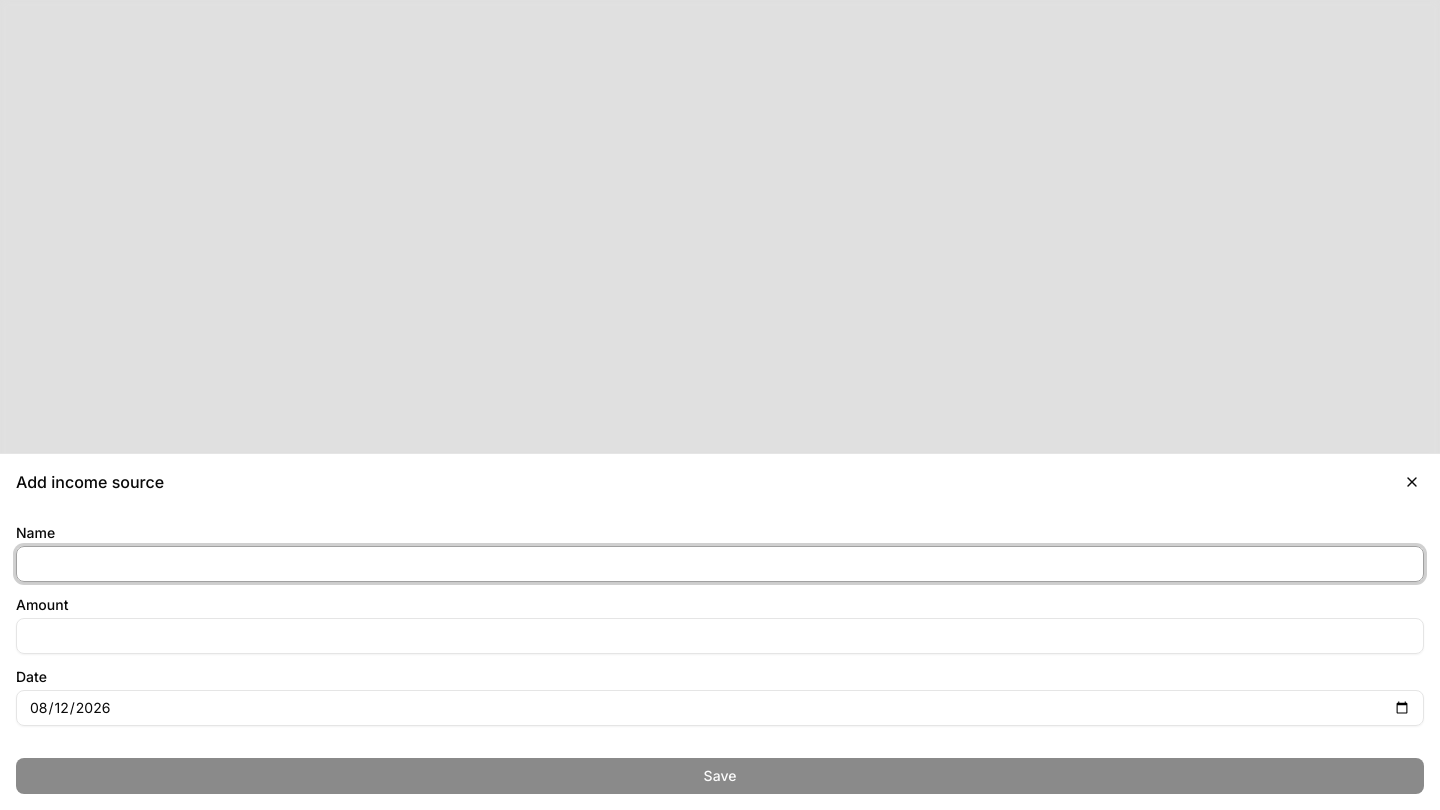
Test: IncomeForm › disables save until name and amount are filled, given the date defaults to today
This screenshot has width=1440, height=810.
Check: the button "Save" is disabled, box x1=16 y1=758 x2=1424 y2=794
Type "Salary" into the field labelled "Name".
click(720, 564); type("Salary")  # box x1=16 y1=546 x2=1424 y2=582
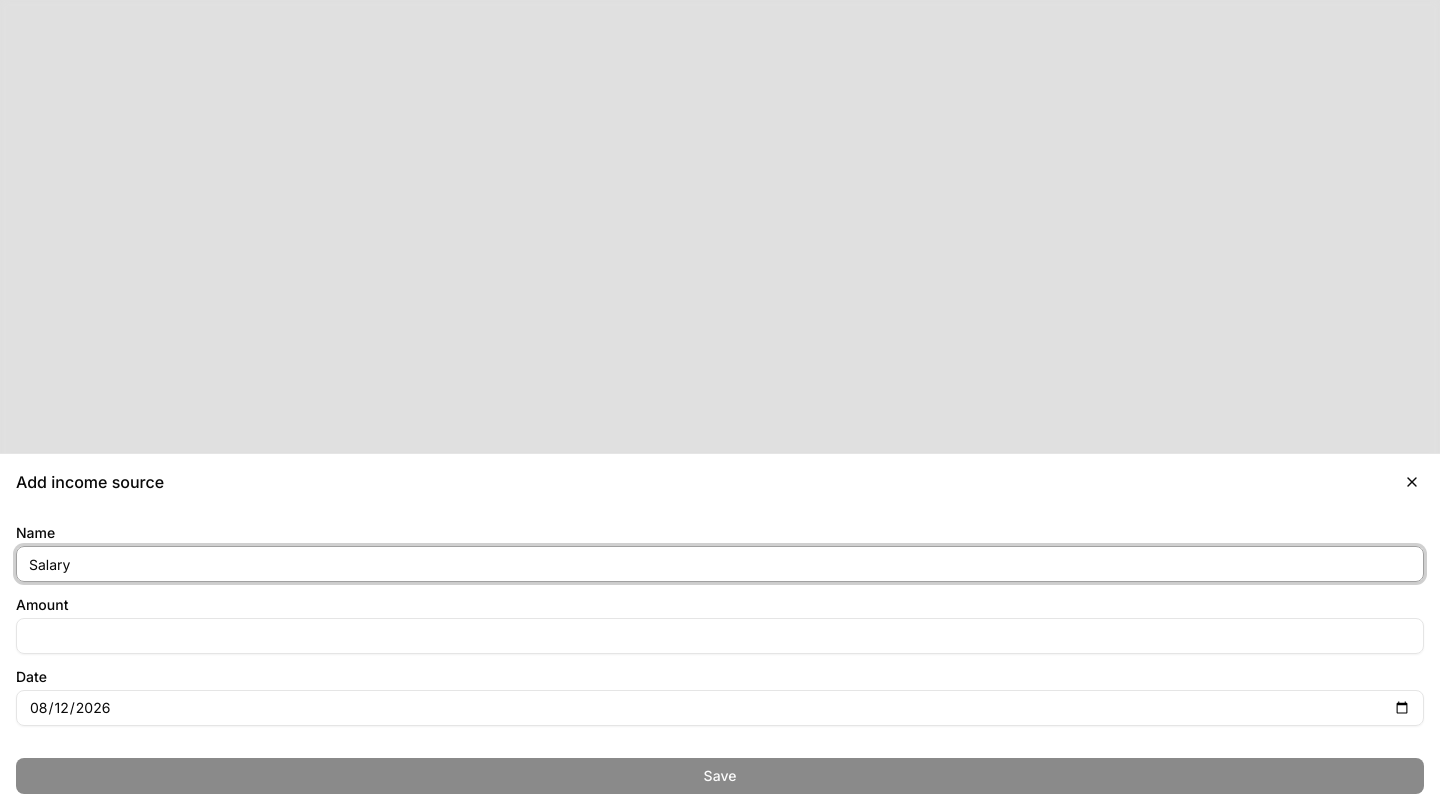
Type "3200" into the field labelled "Amount".
click(720, 636); type("3200")  # box x1=16 y1=618 x2=1424 y2=654
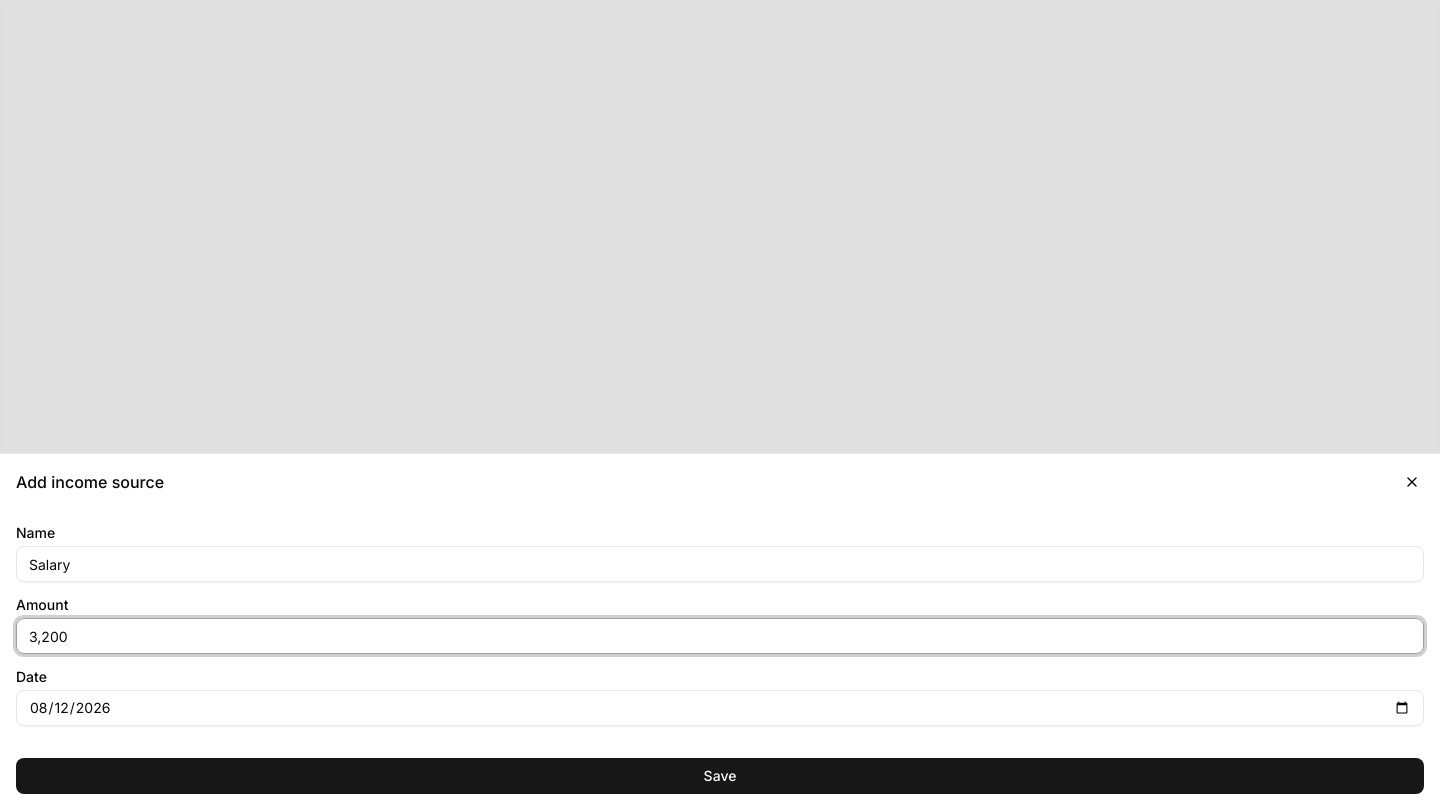
Check: the button "Save" is enabled, box x1=16 y1=758 x2=1424 y2=794
